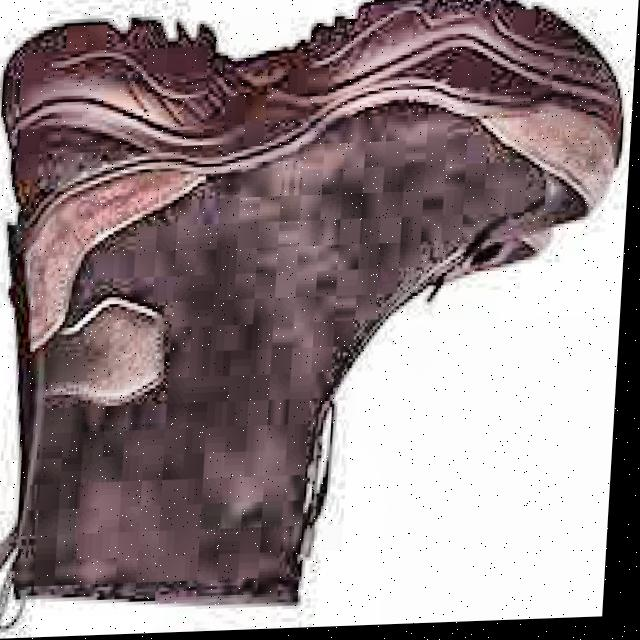shoes: (0, 0, 639, 587)
